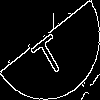T: (25, 25, 69, 80)
